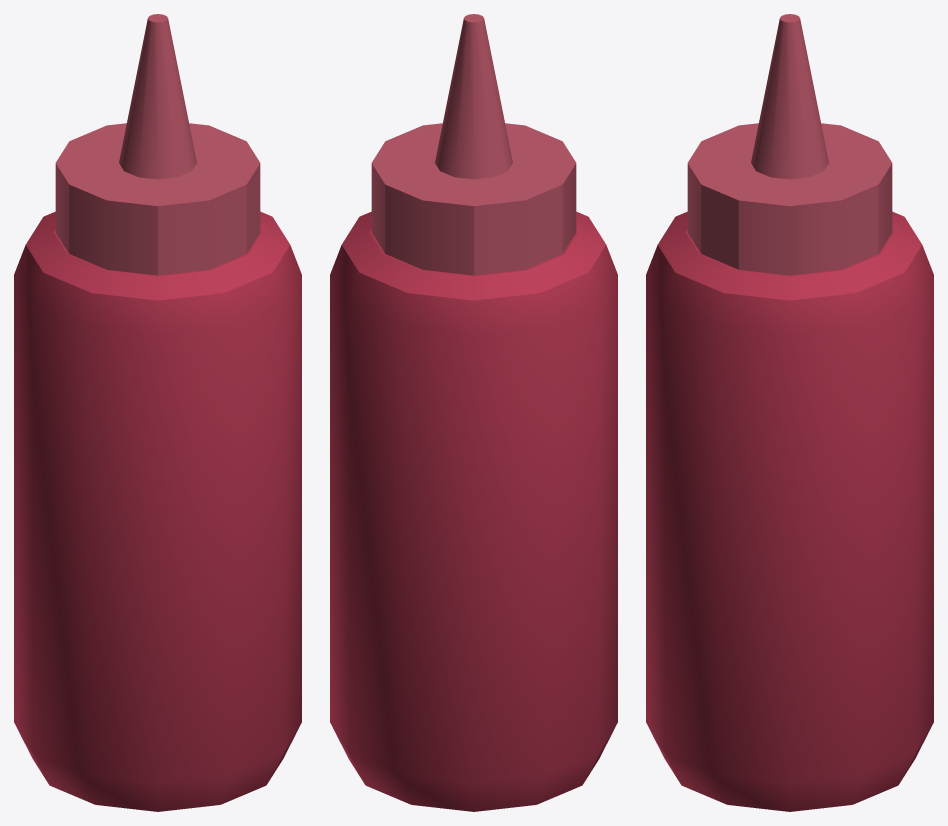
The model's file is SauceBottle1_geo.fbx.
3 renders of one model, left to right at view 1: azimuth 30°, elevation 25°; view 2: azimuth 150°, elevation 25°; view 3: azimuth 270°, elevation 25°, orthographic.
Parts seen in each view (by area): view 1: SauceBottle1_geo; view 2: SauceBottle1_geo; view 3: SauceBottle1_geo.
Boxes of the visible parts, bbox=[...] form: SauceBottle1_geo: bbox=[14, 14, 301, 811]; SauceBottle1_geo: bbox=[330, 14, 617, 811]; SauceBottle1_geo: bbox=[646, 14, 933, 811].
Bounding box in the file's own units: 0.1709 × 0.1709 × 0.4854.
